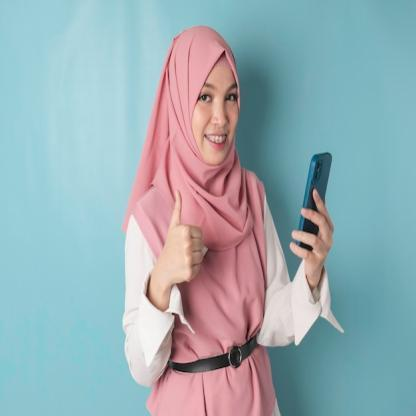thumb_up: (158, 187, 207, 286)
